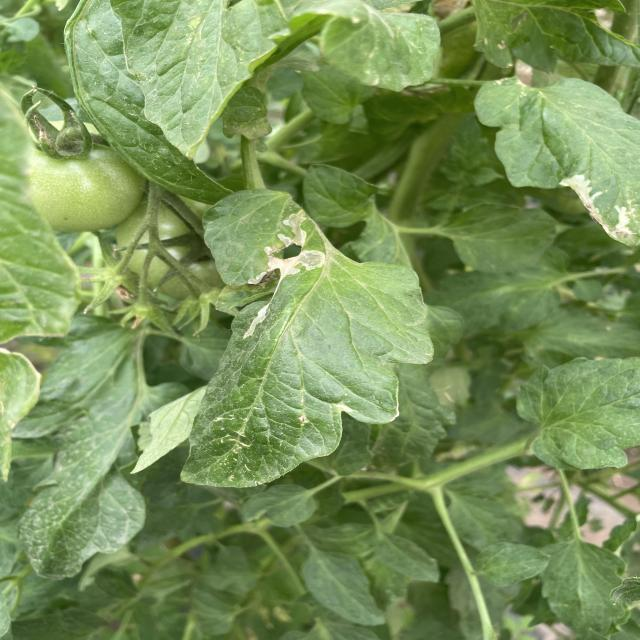Tuta absoluta: (559, 166, 618, 225), (267, 247, 328, 282), (277, 207, 308, 248), (614, 205, 635, 236), (247, 270, 271, 288)
